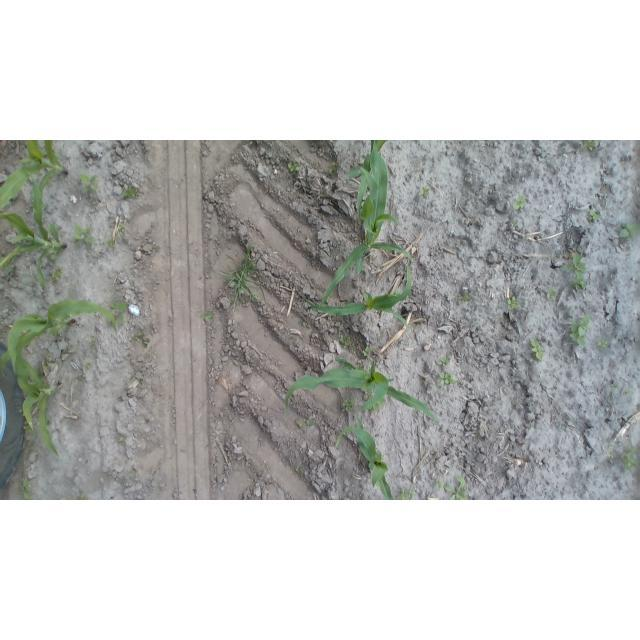Maize: (316, 140, 413, 309), (286, 357, 439, 431), (1, 300, 118, 380), (1, 168, 68, 291), (302, 264, 414, 328), (334, 413, 396, 500), (0, 140, 68, 209), (14, 354, 60, 456), (346, 140, 388, 221)
Weeds: (221, 244, 259, 311), (569, 314, 590, 348), (444, 476, 469, 500), (563, 254, 586, 279), (106, 302, 128, 325), (73, 224, 95, 244), (80, 175, 100, 194), (620, 221, 640, 239), (530, 338, 544, 360), (621, 454, 638, 472), (396, 485, 416, 500), (20, 477, 32, 500), (438, 372, 456, 387), (340, 337, 357, 350), (369, 398, 386, 410), (342, 399, 357, 412), (513, 194, 526, 209), (47, 248, 63, 260), (581, 140, 595, 153), (507, 296, 519, 311), (122, 188, 138, 199), (571, 279, 587, 290), (52, 267, 64, 281), (136, 333, 148, 346), (588, 209, 600, 221), (105, 235, 115, 249), (461, 291, 472, 303), (597, 338, 608, 350), (24, 422, 34, 435), (52, 146, 61, 160), (419, 187, 430, 198), (72, 492, 87, 500), (626, 446, 639, 455), (439, 356, 450, 366), (287, 162, 299, 171), (117, 220, 125, 232), (203, 312, 213, 321), (362, 347, 370, 358), (41, 144, 48, 156), (329, 162, 336, 174), (547, 289, 557, 297), (306, 419, 316, 426), (19, 407, 26, 417), (36, 367, 44, 375), (607, 450, 614, 459), (88, 339, 96, 346), (394, 288, 401, 296), (611, 381, 618, 389), (435, 479, 442, 487), (296, 420, 302, 427), (510, 220, 516, 226), (79, 377, 86, 382), (120, 436, 125, 442), (86, 361, 91, 367), (627, 390, 632, 396), (295, 466, 301, 471), (358, 364, 363, 369)
